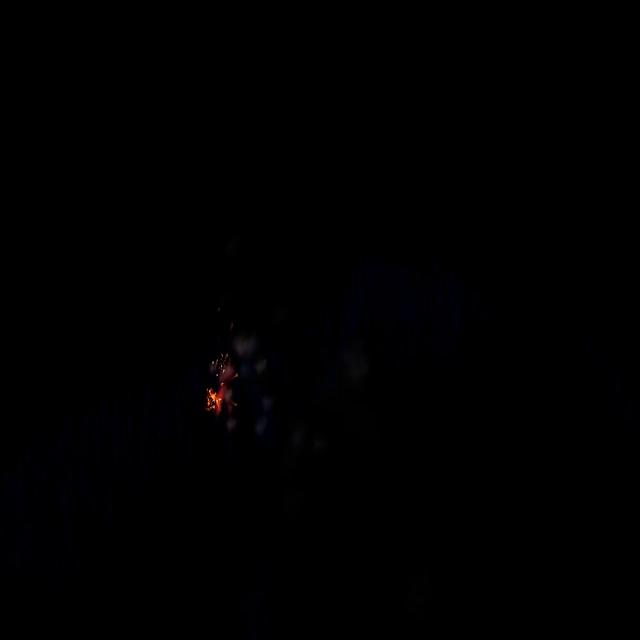fire: (206, 361, 236, 419)
